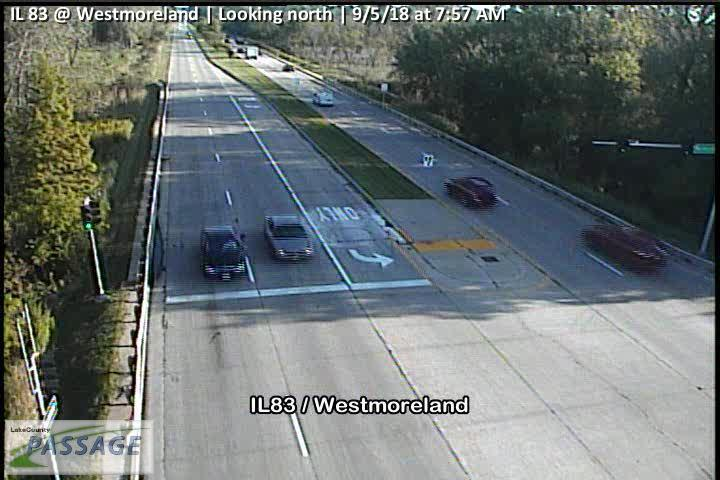Sedan: (579, 223, 650, 272), (198, 223, 247, 284), (262, 213, 313, 262), (443, 174, 497, 208)
